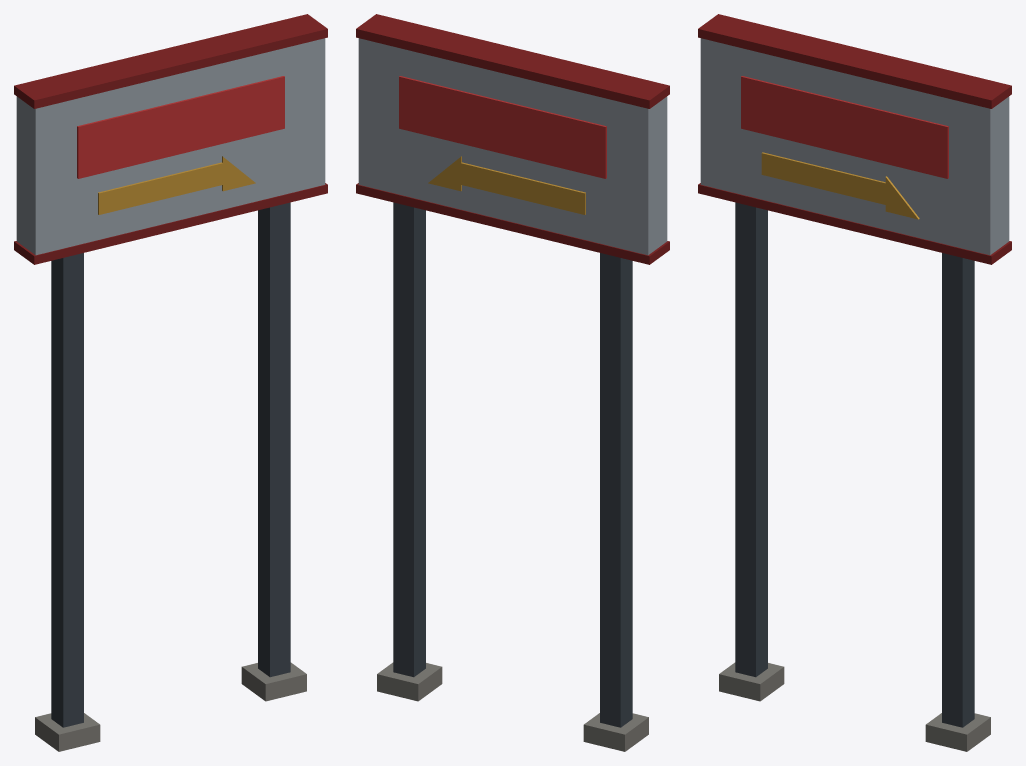
Rendered from env_diner_sign.fbx.
3 renders of one model, left to right at view 1: azimuth 30°, elevation 25°; view 2: azimuth 150°, elevation 25°; view 3: azimuth 330°, elevation 25°, orthographic.
Parts seen in each view (by area): view 1: env_diner_sign; view 2: env_diner_sign; view 3: env_diner_sign.
Boxes of the visible parts, x1,y1,x2,y2 form: env_diner_sign: [14, 14, 327, 751]; env_diner_sign: [356, 14, 669, 751]; env_diner_sign: [698, 14, 1011, 751].
Size of the model in its own units: 1420 by 3030 by 200.
